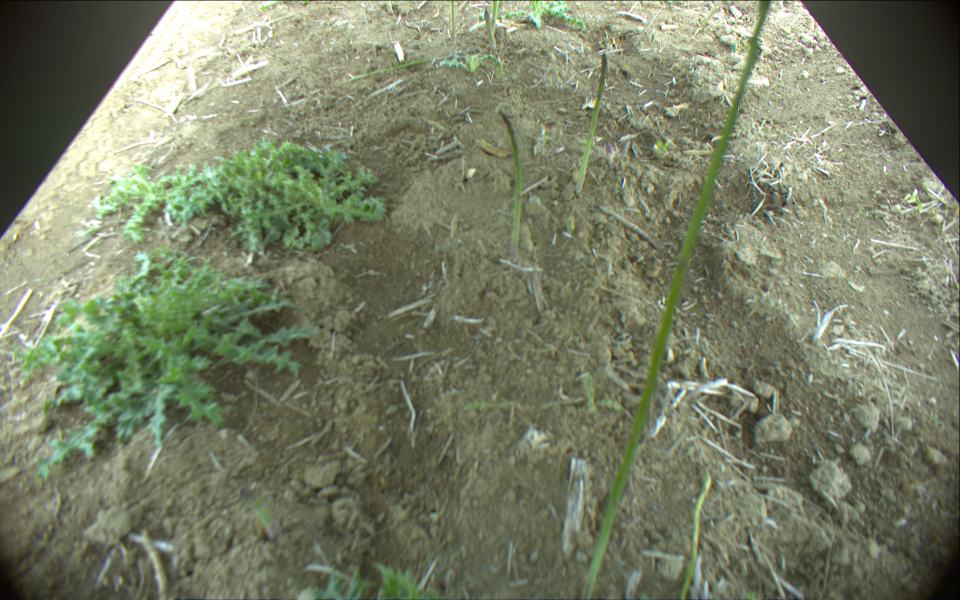aspa: (570, 1, 773, 600), (674, 475, 715, 600), (346, 45, 479, 83), (576, 50, 608, 195), (497, 111, 526, 261), (485, 8, 500, 53), (448, 1, 457, 39), (491, 1, 498, 24)
